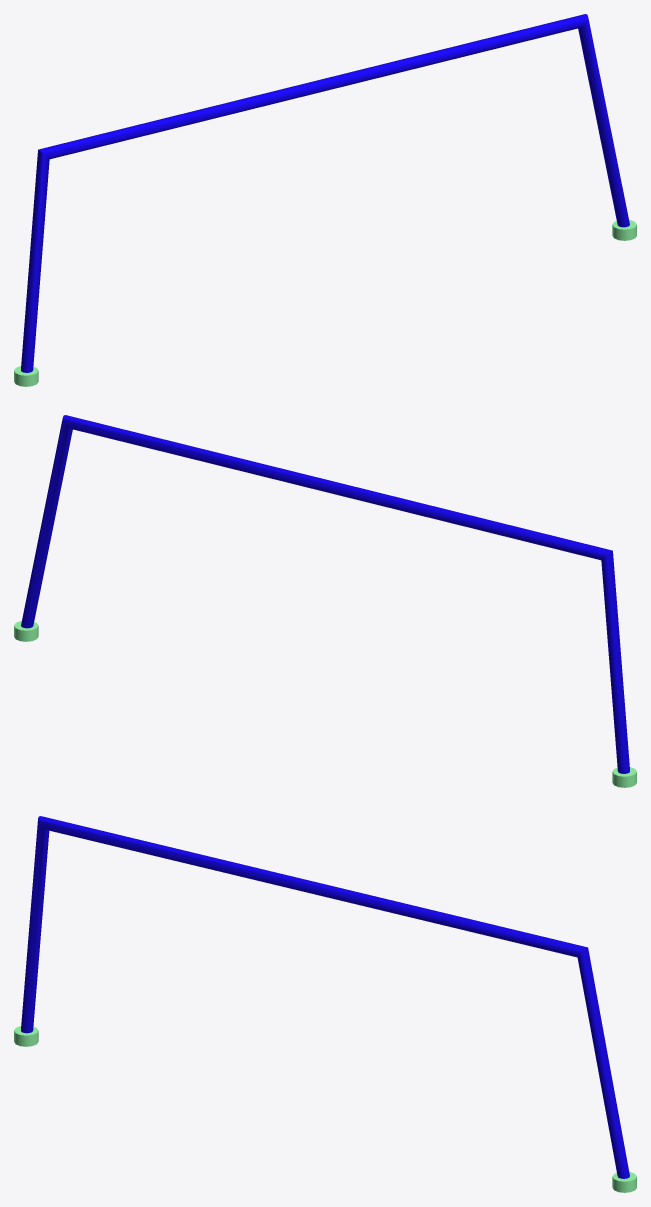
3 renders of one model, top to bottom at view 1: azimuth 30°, elevation 25°; view 2: azimuth 150°, elevation 25°; view 3: azimuth 330°, elevation 25°, orthographic.
Visible parts, largest first — view 1: Line005; view 2: Line005; view 3: Line005.
Part boxes in pixels (<box>): Line005: <box>14,14,636,386</box>; Line005: <box>14,415,636,787</box>; Line005: <box>14,816,636,1192</box>.
Bounding box in the file's own units: 291 × 104 × 10.
